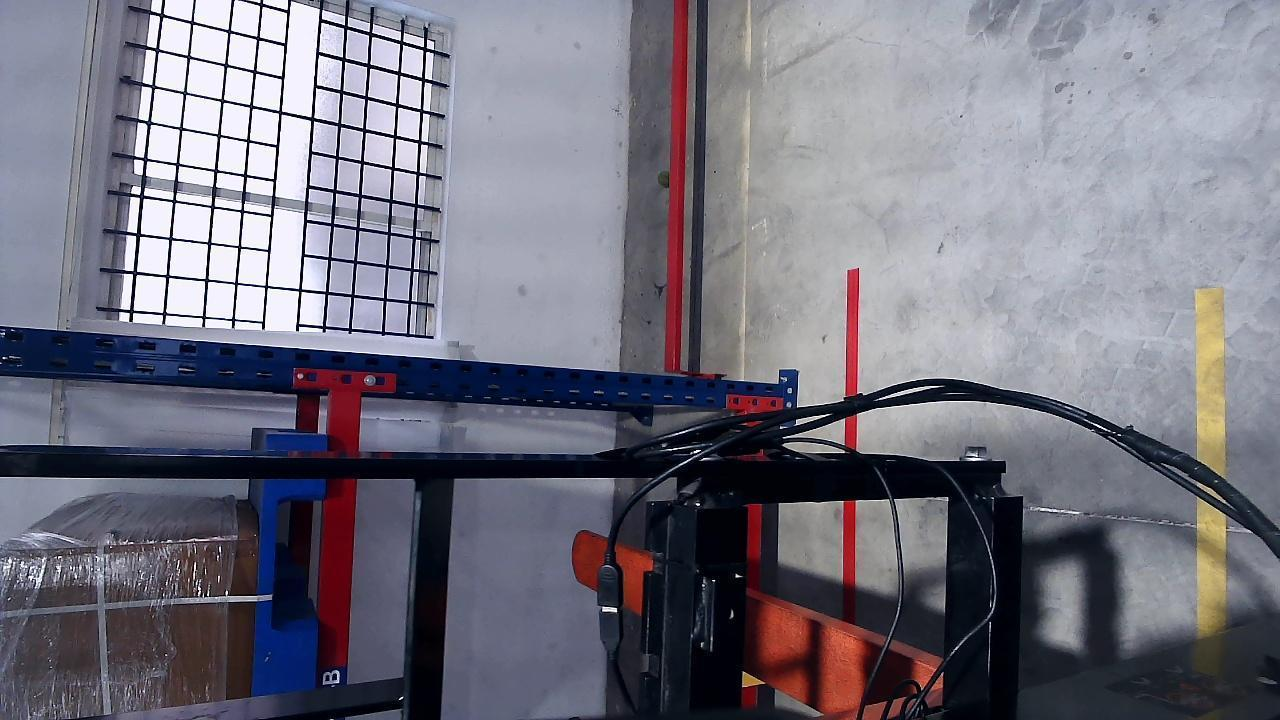red_line: (845, 270, 863, 616)
yellow_line: (1194, 287, 1228, 630)
